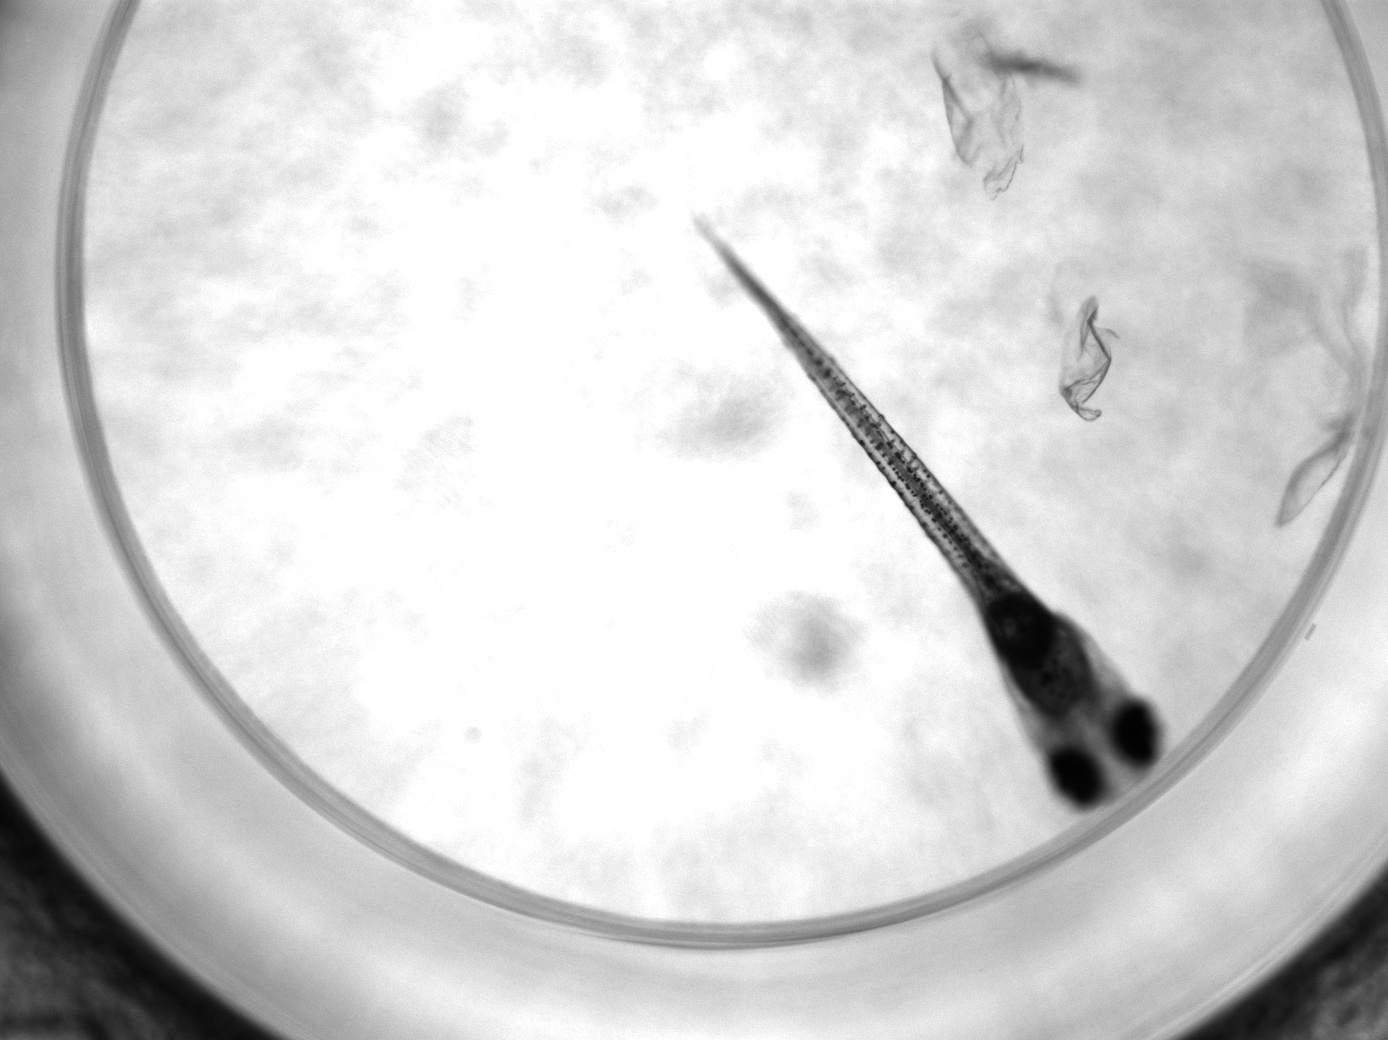debris: (932, 11, 1030, 198), (1054, 291, 1116, 419)
embryo: (695, 213, 1172, 813)
eye: (1106, 697, 1168, 773), (1045, 745, 1111, 809)
yolksac: (973, 594, 1101, 707)
